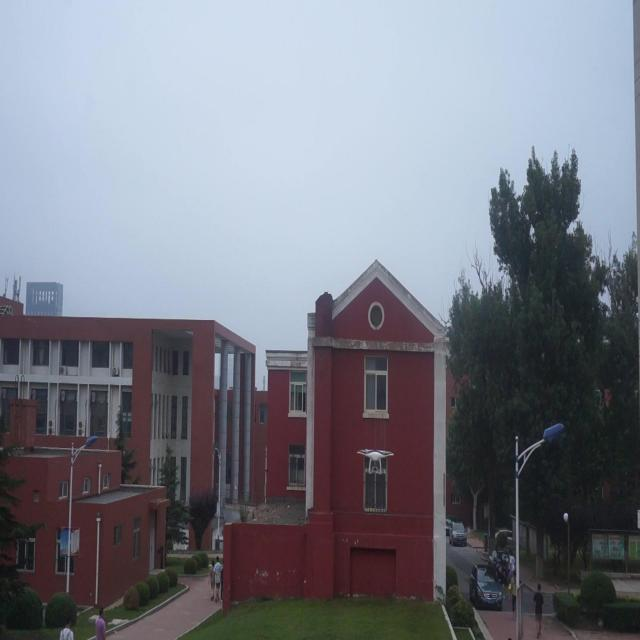UAV: (356, 448, 394, 476)
